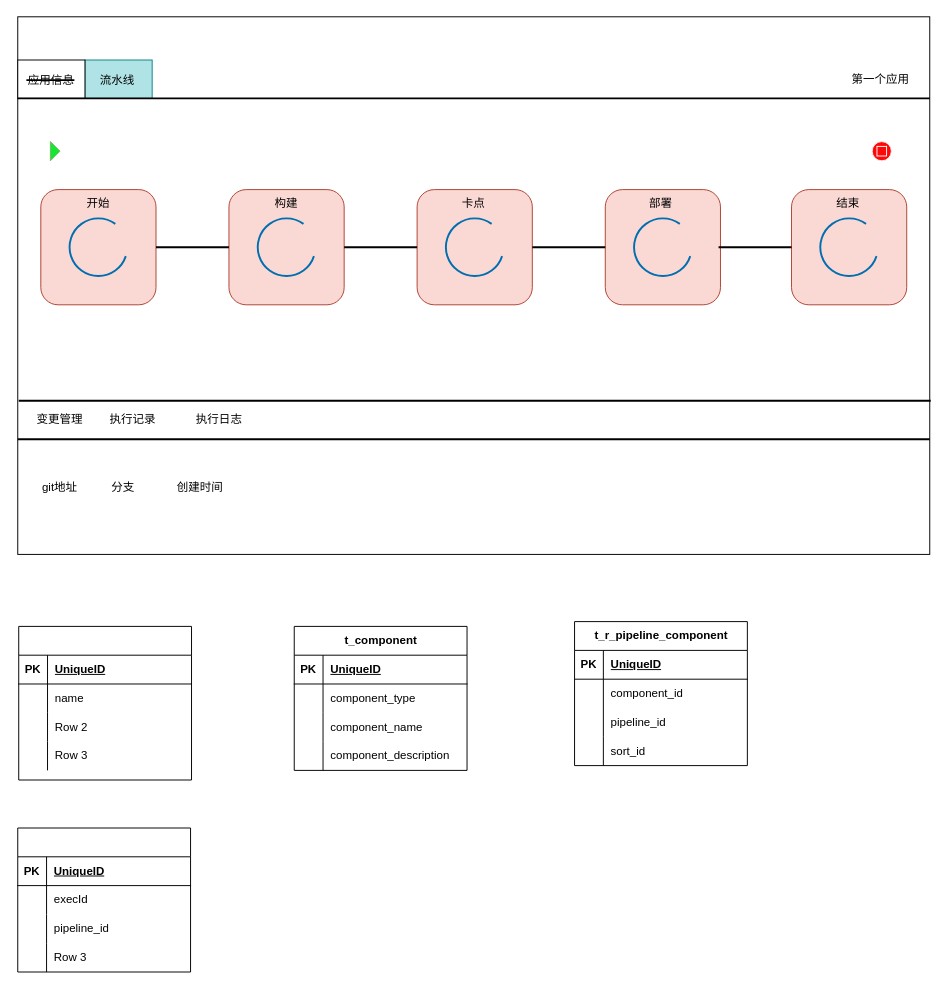
Some shapes in this 948 by 989 pixel diagram are drawn without their labels. Here are the shapes that lost their labels. From the top down, the box of each, then its label:
(18, 625, 192, 780): t_pipeline
(17, 827, 191, 972): t_pipeline_exe_record
